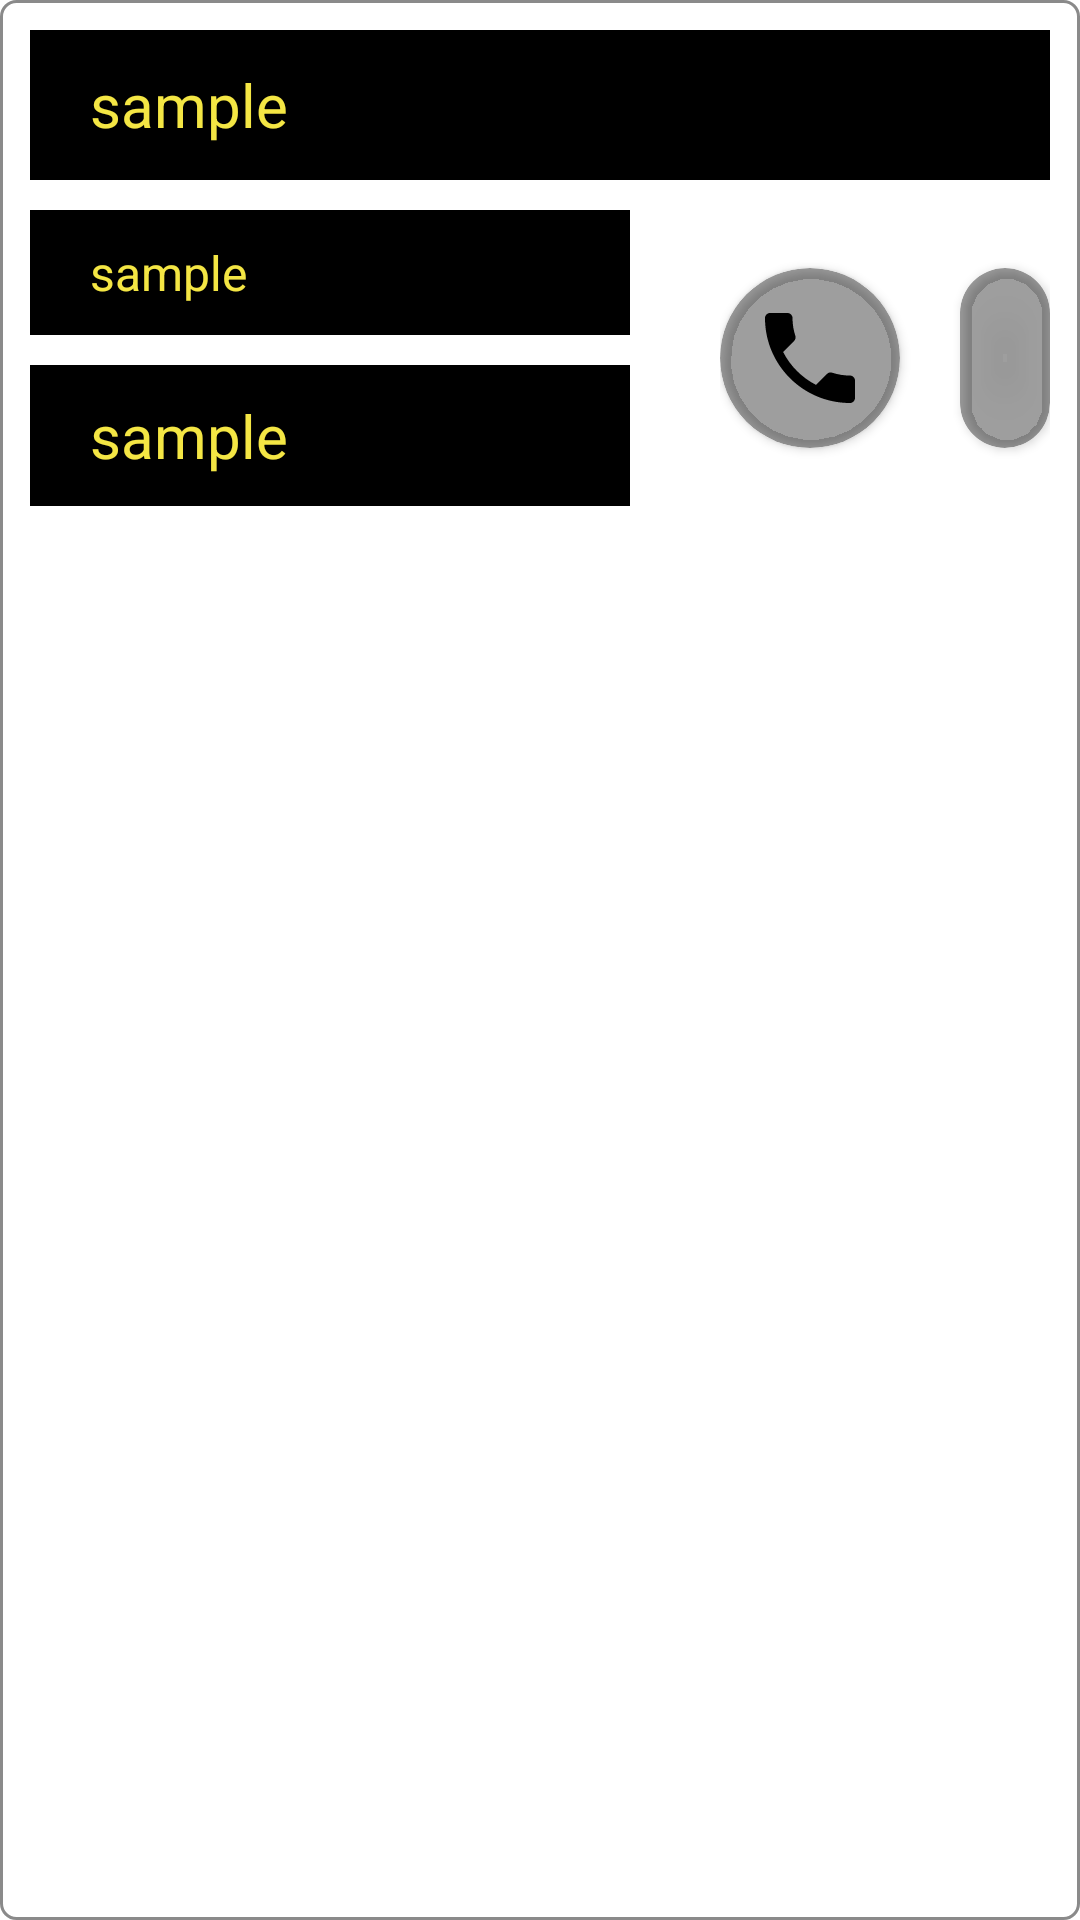

Icons on this 1080x1920 Android screen, each with its box as (x1, y1, x2, y2):
local phone: (720, 268, 900, 448)
